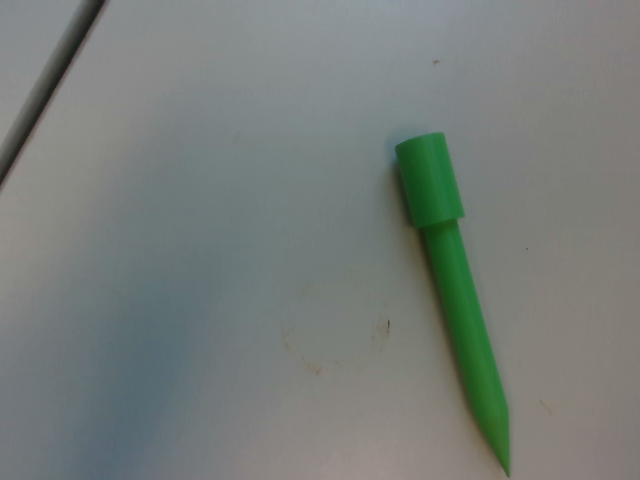Probe: (389, 120, 517, 480)
